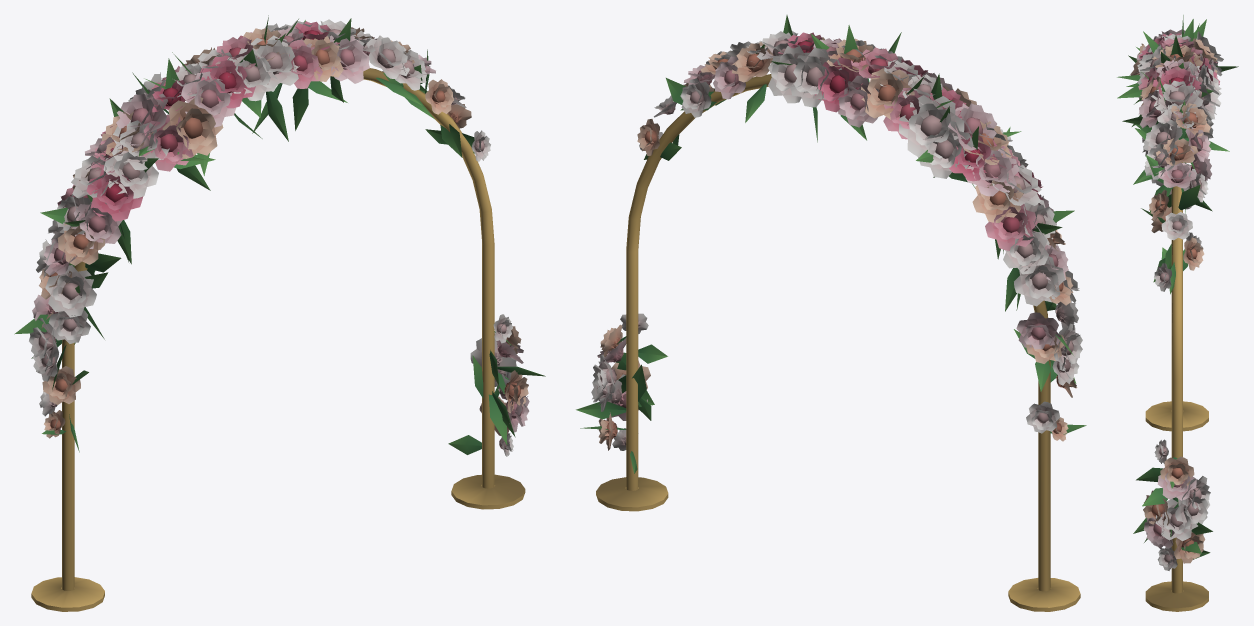
Rendered from cong-hoa.glb.
3 renders of one model, left to right at view 1: azimuth 30°, elevation 25°; view 2: azimuth 150°, elevation 25°; view 3: azimuth 270°, elevation 25°, orthographic. The views are drawn at different scales.
Visible parts, largest first — view 1: cong-hoa; view 2: cong-hoa; view 3: cong-hoa.
Part boxes in pixels (x1,y1,x2,y2): cong-hoa: [14, 15, 545, 611]; cong-hoa: [576, 15, 1086, 611]; cong-hoa: [1117, 15, 1238, 611].
Bounding box in the file's own units: 2.51 × 2.55 × 0.6107.
